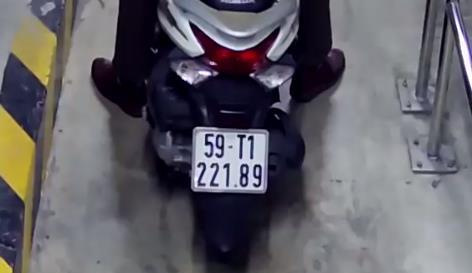lisence: (192, 126, 269, 193)
